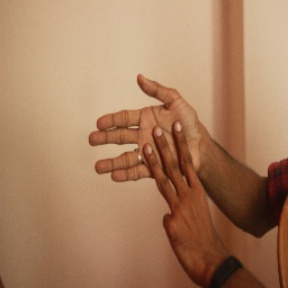M: (81, 70, 219, 228)
